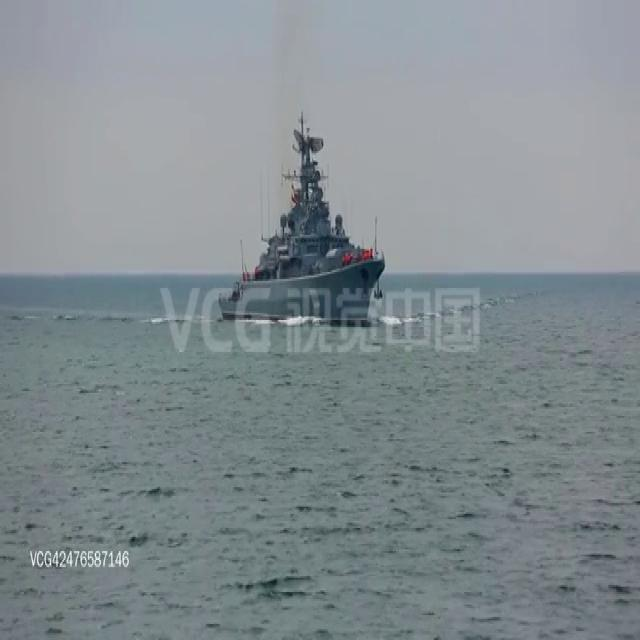navalvessels: (217, 107, 386, 330)
